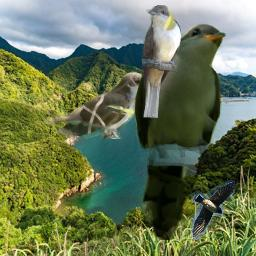Cuckoo: (133, 23, 227, 240), (44, 71, 156, 139), (140, 5, 181, 118)
Swallow: (191, 180, 235, 240)
